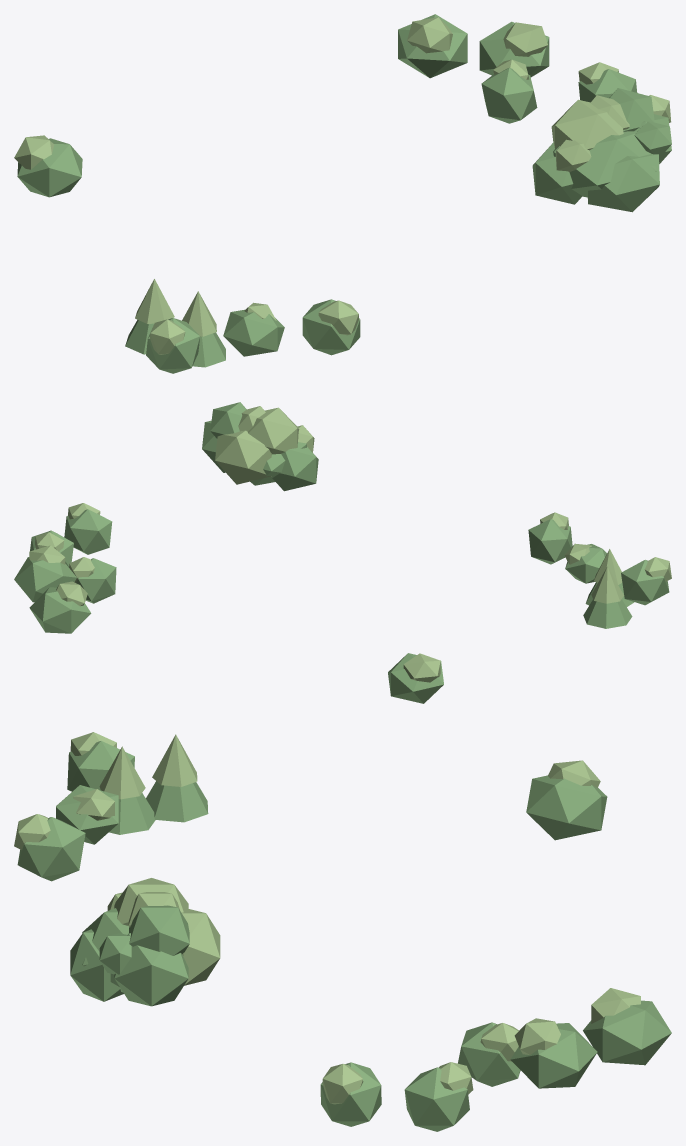
File: ancient_oak_wind_canopies.fbx
The picture shows the model from 3 angles, top to bottom: view 1: azimuth 30°, elevation 25°; view 2: azimuth 150°, elevation 25°; view 3: azimuth 270°, elevation 25°; orthographic projection. The views are drawn at different scales.
Visible parts, largest first — view 1: chunk_ancient_oak__tree_canopy_13, chunk_ancient_oak__tree_canopy_09, chunk_ancient_oak__tree_canopy_17, chunk_ancient_oak__tree_canopy_16, chunk_ancient_oak__tree_canopy_08, chunk_ancient_oak__tree_canopy_19, chunk_ancient_oak__tree_canopy_11, chunk_ancient_oak__tree_canopy_02, chunk_ancient_oak__tree_canopy_15, chunk_ancient_oak__tree_canopy_20, chunk_ancient_oak__tree_canopy_23, chunk_ancient_oak__tree_canopy_04 (+7 smaller); view 2: chunk_ancient_oak__tree_canopy_13, chunk_ancient_oak__tree_canopy_16, chunk_ancient_oak__tree_canopy_21, chunk_ancient_oak__tree_canopy_19, chunk_ancient_oak__tree_canopy_11, chunk_ancient_oak__tree_canopy_09, chunk_ancient_oak__tree_canopy_02, chunk_ancient_oak__tree_canopy_17, chunk_ancient_oak__tree_canopy_03, chunk_ancient_oak__tree_canopy_08, chunk_ancient_oak__tree_canopy_07, chunk_ancient_oak__tree_canopy_04 (+4 smaller); view 3: chunk_ancient_oak__tree_canopy_13, chunk_ancient_oak__tree_canopy_09, chunk_ancient_oak__tree_canopy_16, chunk_ancient_oak__tree_canopy_19, chunk_ancient_oak__tree_canopy_23, chunk_ancient_oak__tree_canopy_11, chunk_ancient_oak__tree_canopy_17, chunk_ancient_oak__tree_canopy_21, chunk_ancient_oak__tree_canopy_03, chunk_ancient_oak__tree_canopy_02, chunk_ancient_oak__tree_canopy_08, chunk_ancient_oak__tree_canopy_04 (+11 smaller).
Boxes of the visible parts, x1,y1,x2,y2 form: chunk_ancient_oak__tree_canopy_13: (532, 88, 671, 212); chunk_ancient_oak__tree_canopy_09: (17, 138, 82, 197); chunk_ancient_oak__tree_canopy_17: (481, 67, 537, 123); chunk_ancient_oak__tree_canopy_16: (398, 14, 467, 78); chunk_ancient_oak__tree_canopy_08: (223, 309, 284, 356); chunk_ancient_oak__tree_canopy_19: (479, 21, 549, 77); chunk_ancient_oak__tree_canopy_11: (302, 299, 360, 355); chunk_ancient_oak__tree_canopy_02: (146, 318, 199, 373); chunk_ancient_oak__tree_canopy_15: (407, 17, 452, 53); chunk_ancient_oak__tree_canopy_20: (503, 22, 547, 56); chunk_ancient_oak__tree_canopy_23: (578, 69, 637, 102); chunk_ancient_oak__tree_canopy_04: (135, 279, 174, 323); chunk_ancient_oak__tree_canopy_13: (202, 402, 318, 491); chunk_ancient_oak__tree_canopy_16: (29, 587, 91, 633); chunk_ancient_oak__tree_canopy_21: (64, 509, 112, 554); chunk_ancient_oak__tree_canopy_19: (14, 557, 76, 602); chunk_ancient_oak__tree_canopy_11: (528, 519, 572, 564); chunk_ancient_oak__tree_canopy_09: (388, 653, 443, 703); chunk_ancient_oak__tree_canopy_02: (621, 559, 669, 605); chunk_ancient_oak__tree_canopy_17: (76, 558, 116, 603); chunk_ancient_oak__tree_canopy_03: (583, 599, 632, 628); chunk_ancient_oak__tree_canopy_08: (565, 544, 606, 583); chunk_ancient_oak__tree_canopy_07: (403, 653, 440, 682); chunk_ancient_oak__tree_canopy_04: (591, 566, 623, 603); chunk_ancient_oak__tree_canopy_13: (70, 878, 220, 1006); chunk_ancient_oak__tree_canopy_09: (526, 775, 607, 840); chunk_ancient_oak__tree_canopy_16: (583, 1000, 671, 1065); chunk_ancient_oak__tree_canopy_19: (510, 1023, 597, 1088); chunk_ancient_oak__tree_canopy_23: (404, 1067, 469, 1131); chunk_ancient_oak__tree_canopy_11: (17, 817, 85, 881); chunk_ancient_oak__tree_canopy_17: (458, 1022, 520, 1086); chunk_ancient_oak__tree_canopy_21: (320, 1062, 381, 1126); chunk_ancient_oak__tree_canopy_03: (146, 781, 208, 822); chunk_ancient_oak__tree_canopy_02: (67, 741, 134, 791); chunk_ancient_oak__tree_canopy_08: (56, 785, 118, 844); chunk_ancient_oak__tree_canopy_04: (152, 734, 197, 786).
Size of the model in its own units: 213 by 46.67 by 166.
